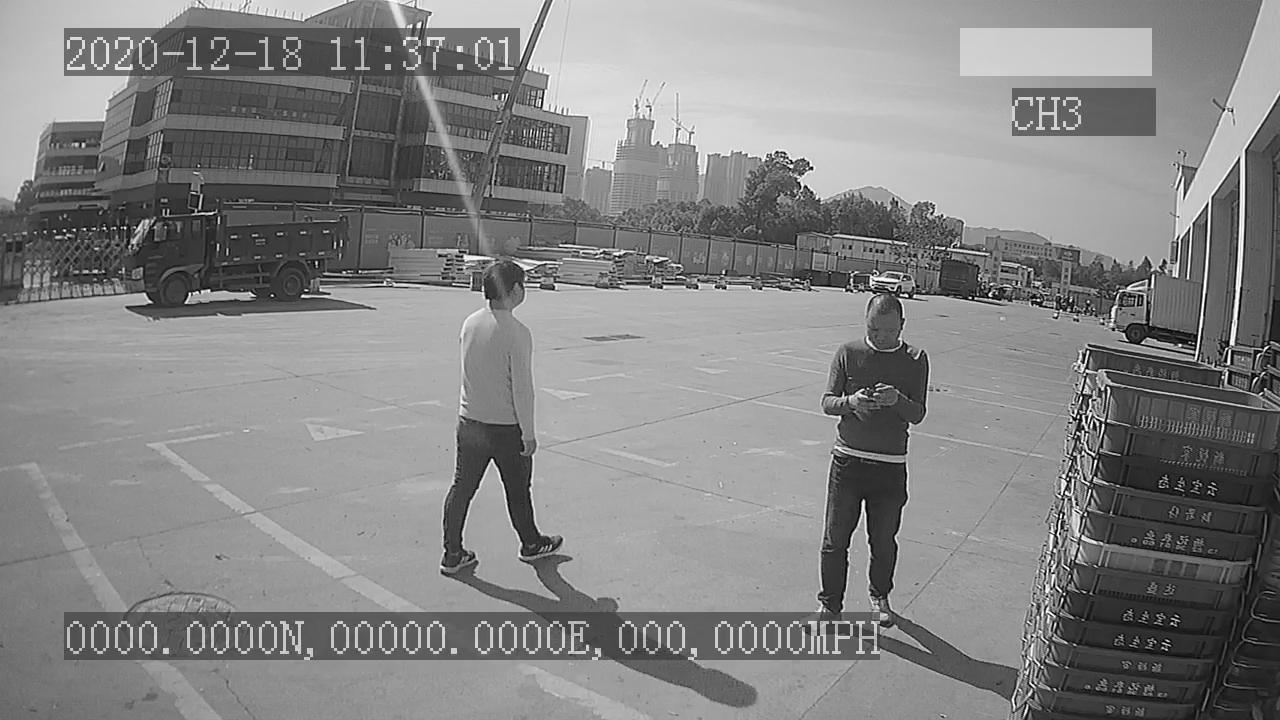person: (432, 257, 566, 573)
